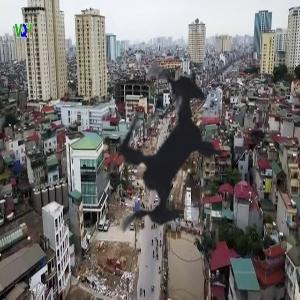drone: (35, 26, 299, 290)
